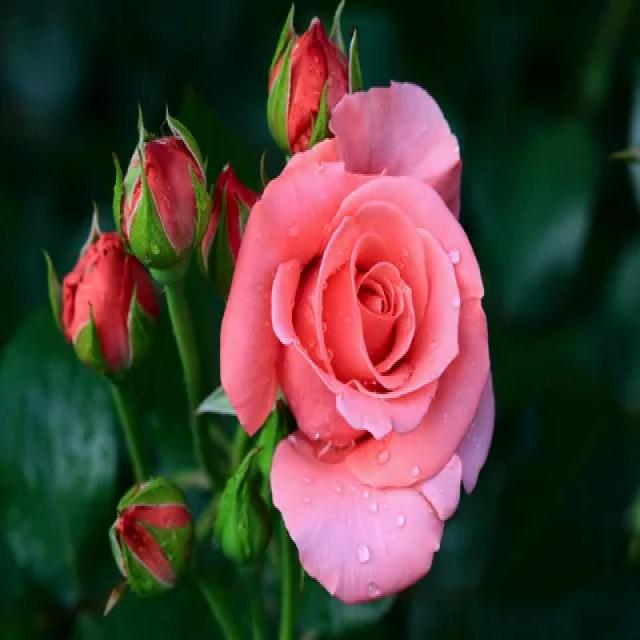rose: (216, 75, 502, 595)
